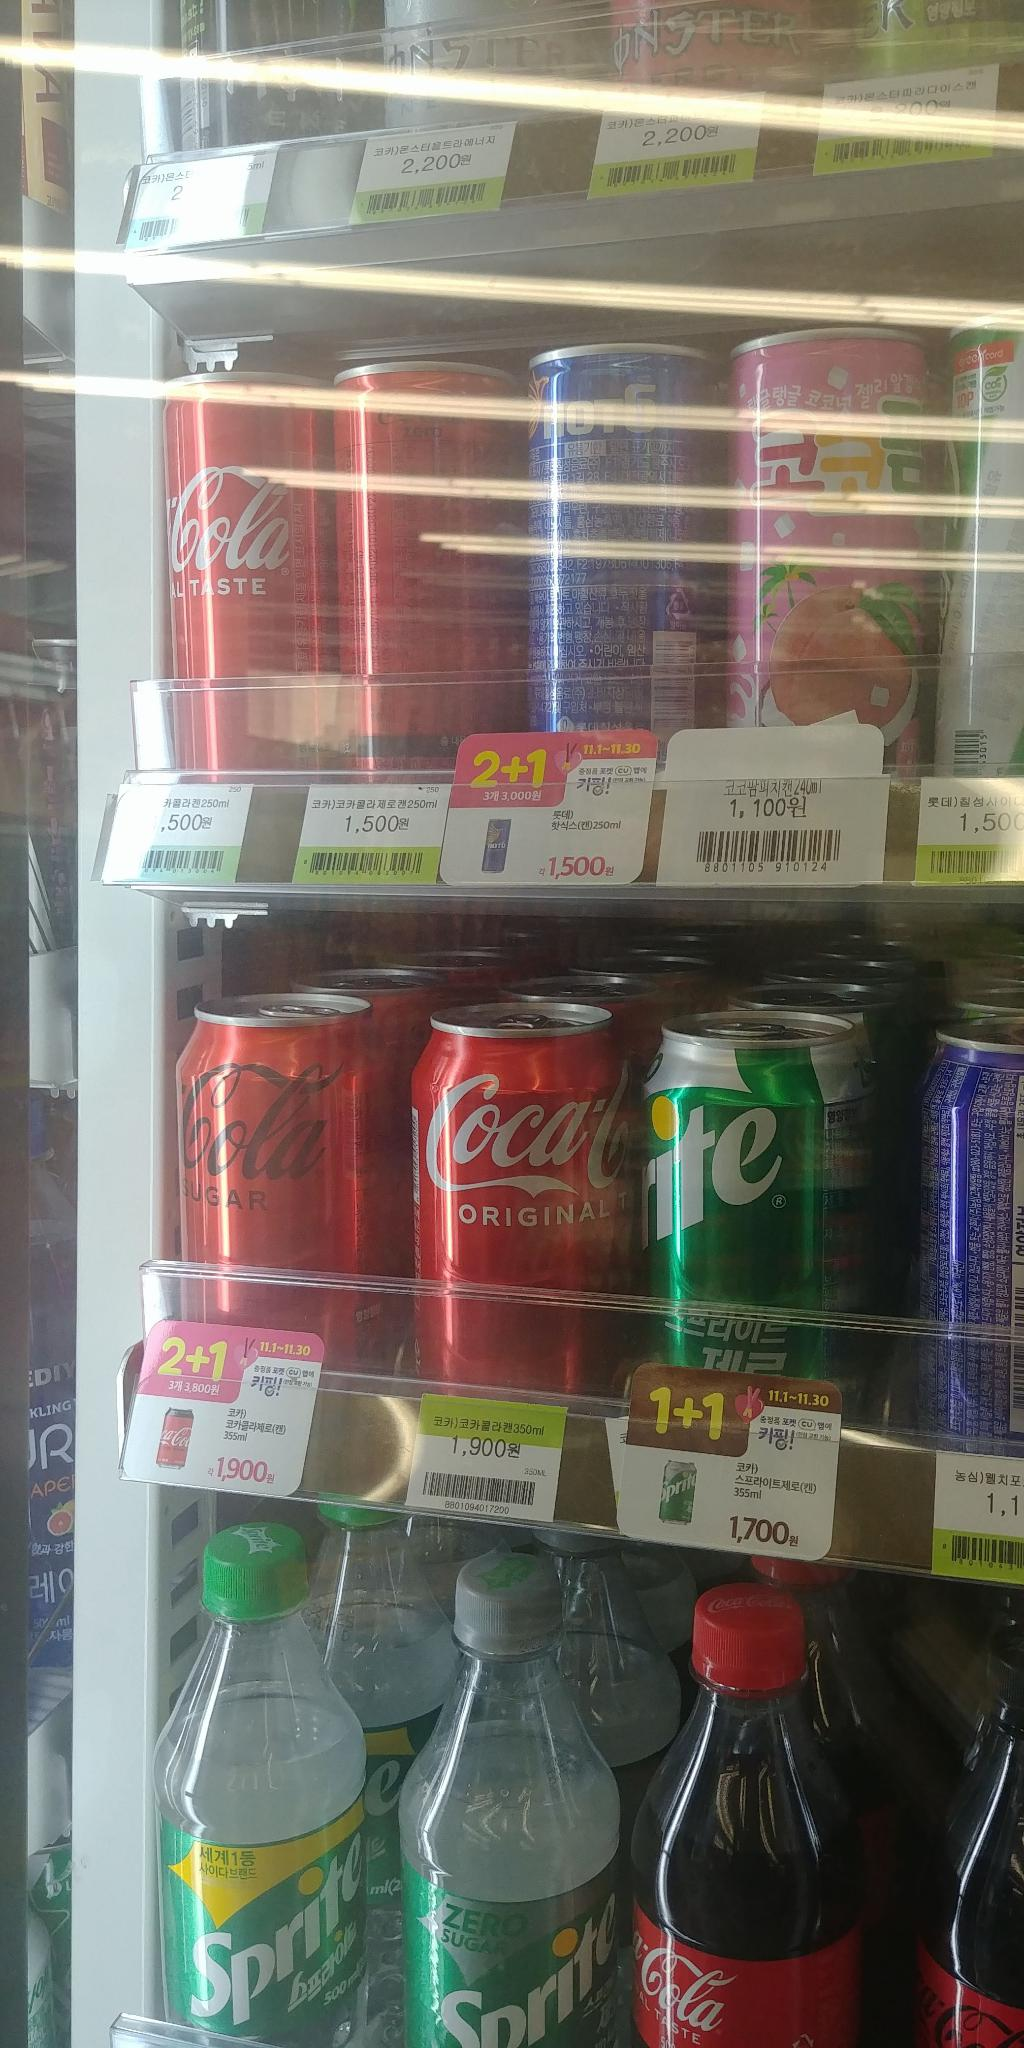cocacola: (410, 985, 643, 1429)
hotsix_org: (521, 332, 758, 784)
sprite_zero: (387, 1539, 627, 2048)
